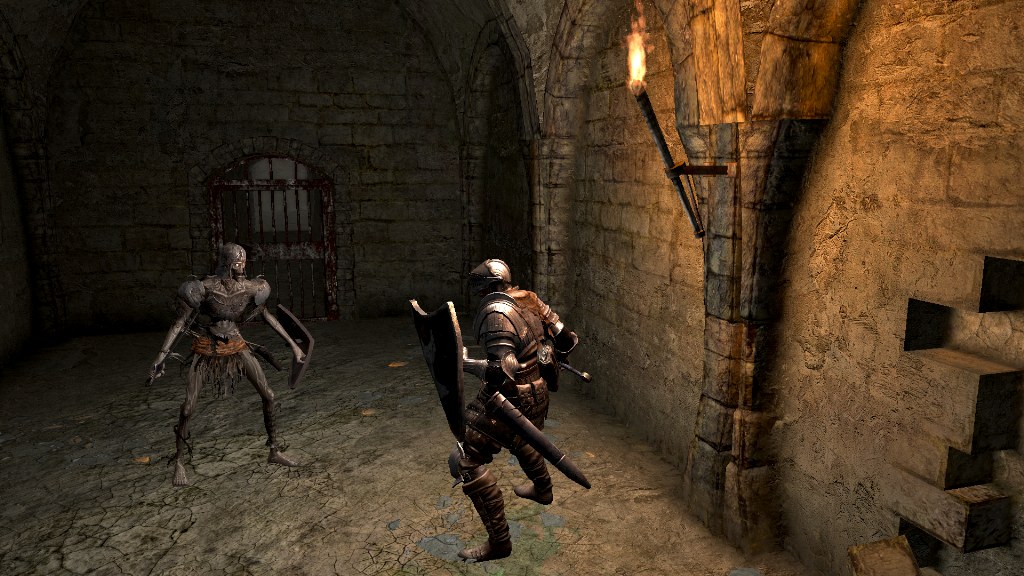player: (408, 257, 595, 562)
undeadSoldier: (147, 241, 298, 488)
